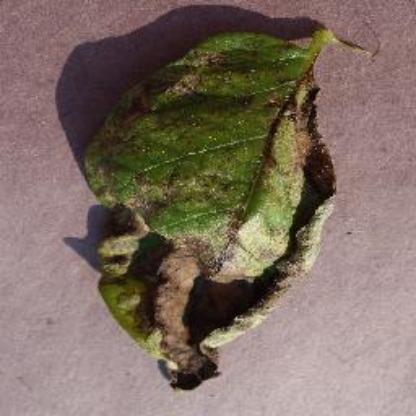Late-Blight: (31, 18, 409, 394)
